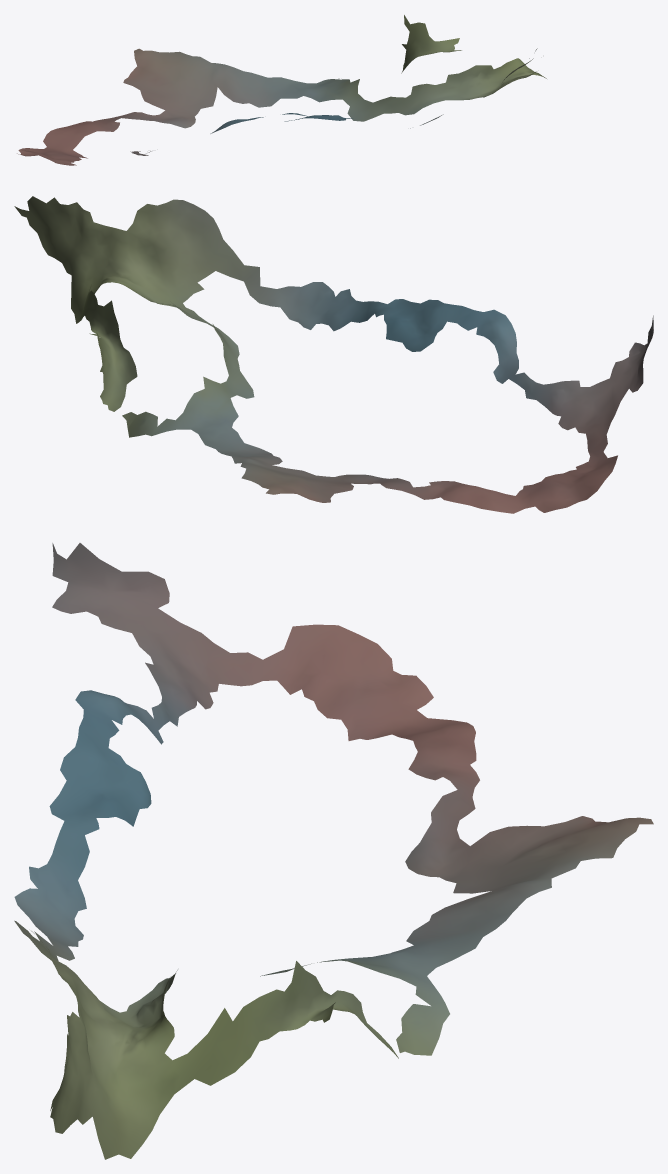
Rendered from LODS_Cloud_global_1.glb.
The picture shows the model from 3 angles, top to bottom: view 1: azimuth 30°, elevation 25°; view 2: azimuth 150°, elevation 25°; view 3: azimuth 270°, elevation 25°; orthographic projection. The views are drawn at different scales.
Parts seen in each view (by area): view 1: LOD0; view 2: LOD0; view 3: LOD0.
Boxes of the visible parts, x1,y1,x2,y2 form: LOD0: (17, 15, 546, 165); LOD0: (14, 196, 653, 513); LOD0: (14, 543, 653, 1159).
Size of what is drawn, in the model's own units: 0.4607 by 0.0847 by 0.2372.
